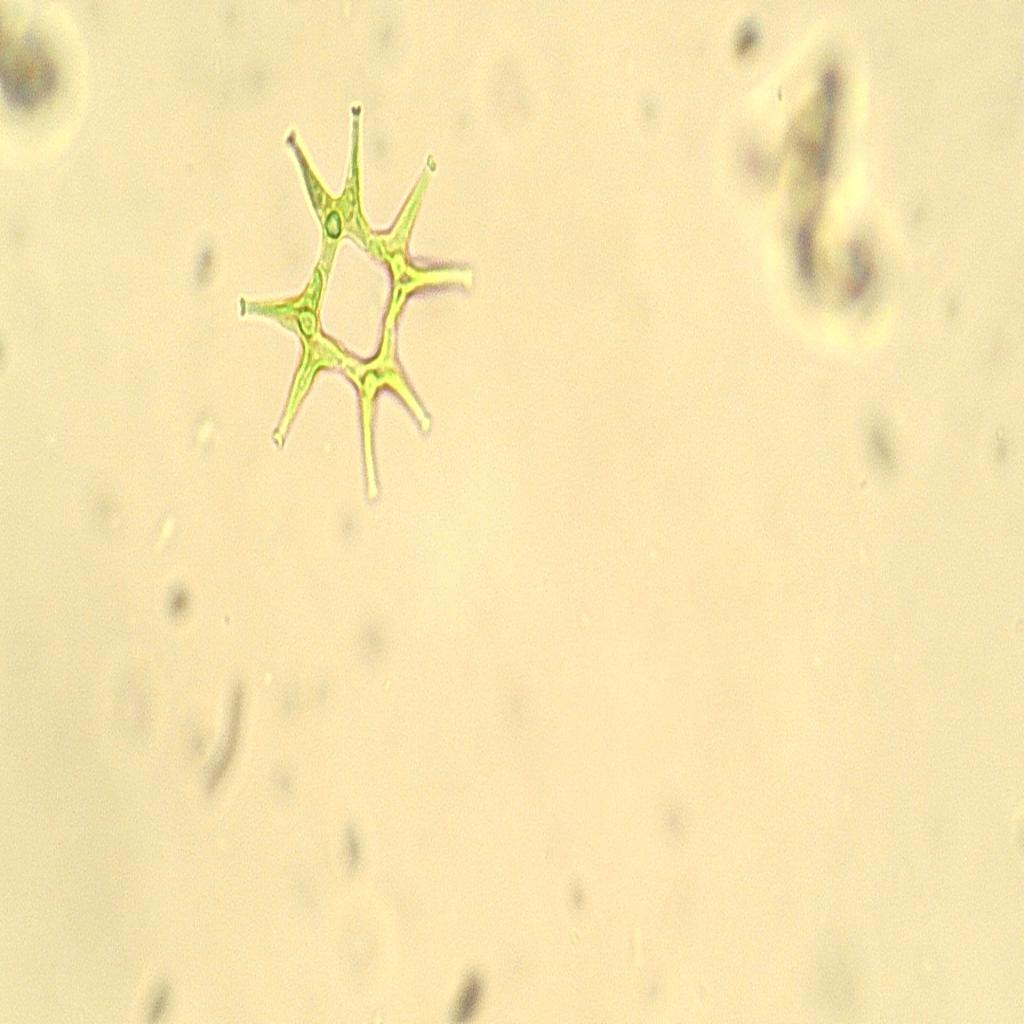Pediastrum_CO: (223, 77, 486, 513)
